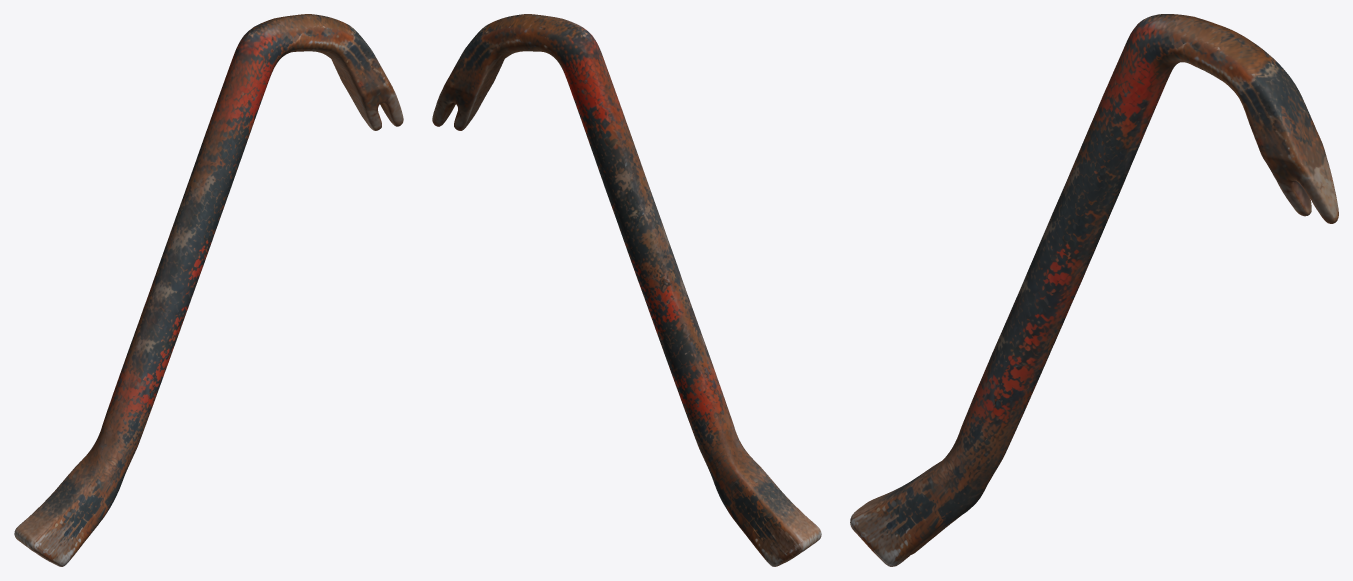
File: Crowbar.fbx
3 views of the same model, side by side, from view 1: azimuth 30°, elevation 25°; view 2: azimuth 150°, elevation 25°; view 3: azimuth 330°, elevation 25° (orthographic). The views are drawn at different scales.
Parts seen in each view (by area): view 1: texture_mapping; view 2: texture_mapping; view 3: texture_mapping.
Part boxes in pixels (box(x1,y1,x2,y2)): texture_mapping: box(14, 14, 403, 566); texture_mapping: box(432, 14, 821, 566); texture_mapping: box(850, 14, 1338, 566).
Bounding box in the file's own units: 0.8136 × 0.0767 × 0.9962.
1 material, 1 textured.
